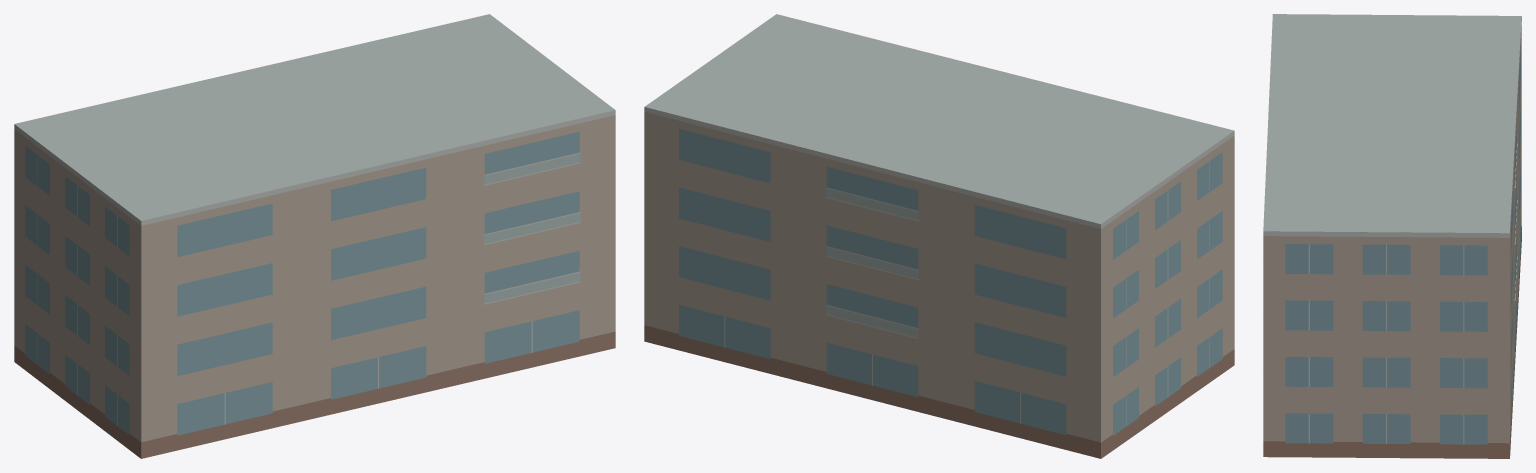
The model's file is survey-upis-32946890.glb.
3 renders of one model, left to right at view 1: azimuth 30°, elevation 25°; view 2: azimuth 150°, elevation 25°; view 3: azimuth 270°, elevation 25°, orthographic. The views are drawn at different scales.
Parts seen in each view (by area): view 1: survey-upis-32946890.tmp; view 2: survey-upis-32946890.tmp; view 3: survey-upis-32946890.tmp.
Boxes of the visible parts, box(x1,y1,x2,y2) form: survey-upis-32946890.tmp: box(14, 14, 615, 458); survey-upis-32946890.tmp: box(644, 14, 1234, 458); survey-upis-32946890.tmp: box(1263, 14, 1521, 458).
Size of the model in its own units: 24.38 by 11.7 by 12.15.
